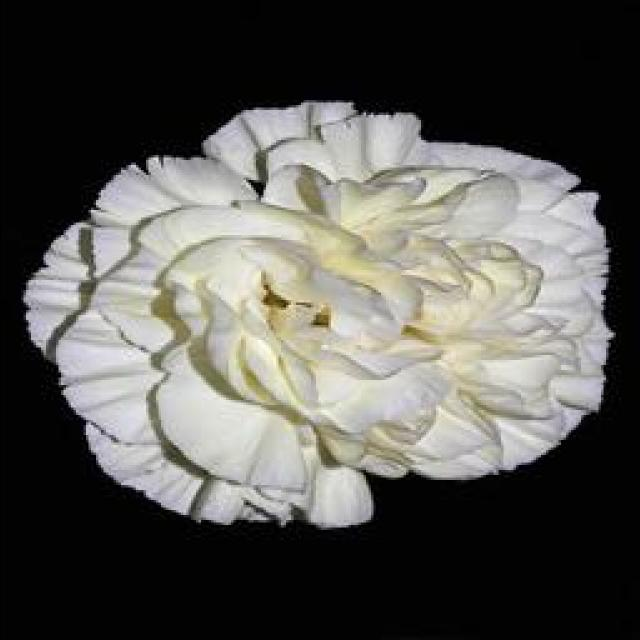carnation: (50, 90, 617, 592)
